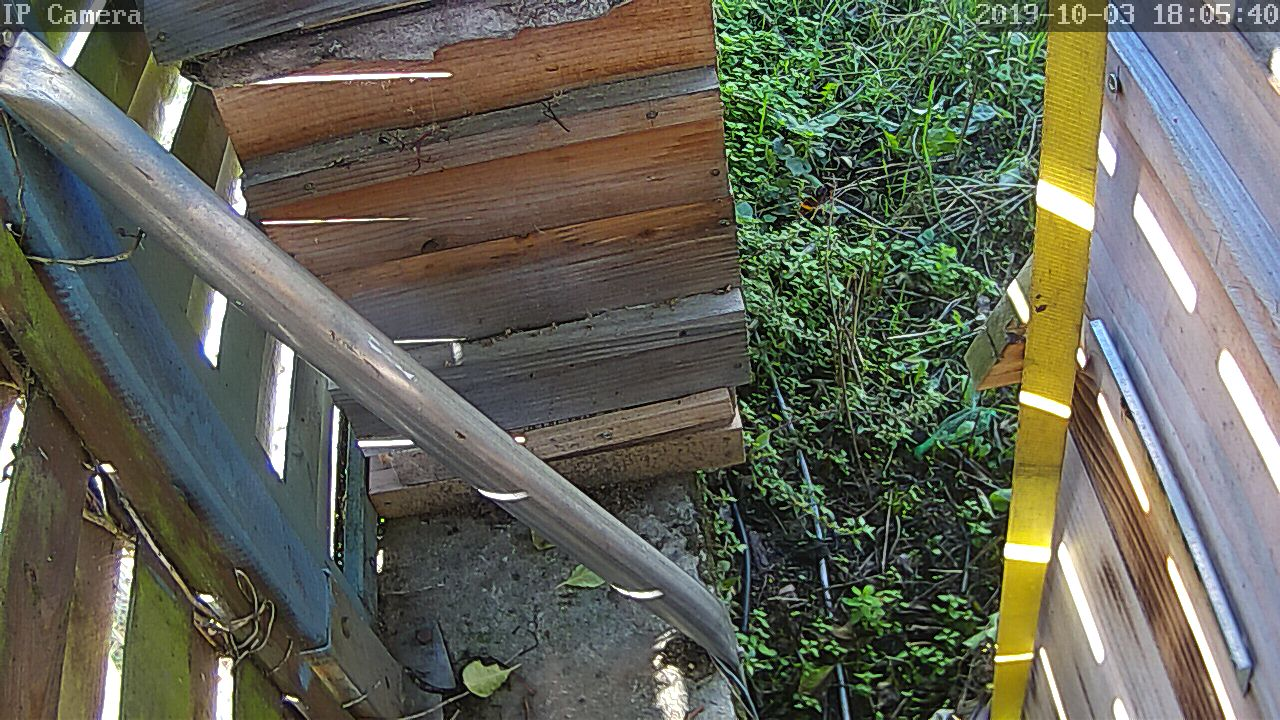hornet: (801, 181, 837, 227)
